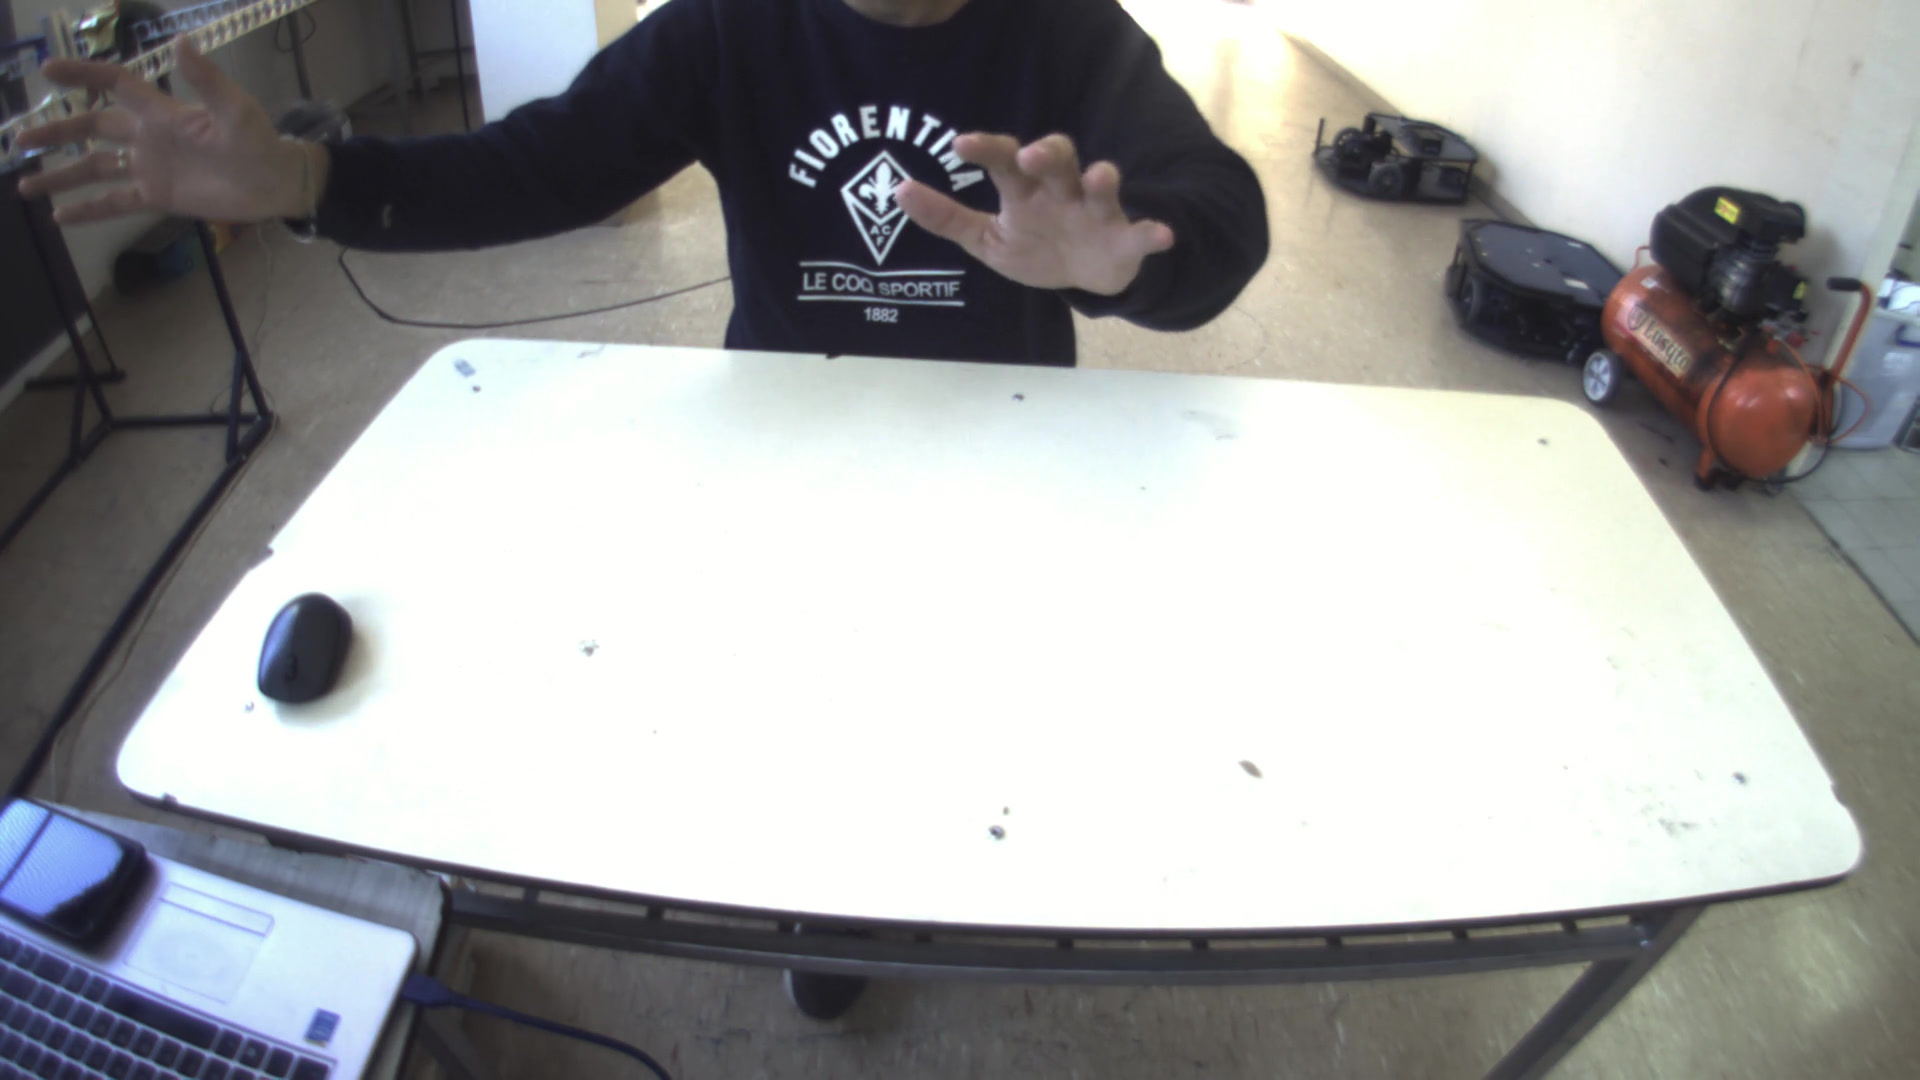hand: (0, 30, 338, 231), (885, 115, 1189, 302)
